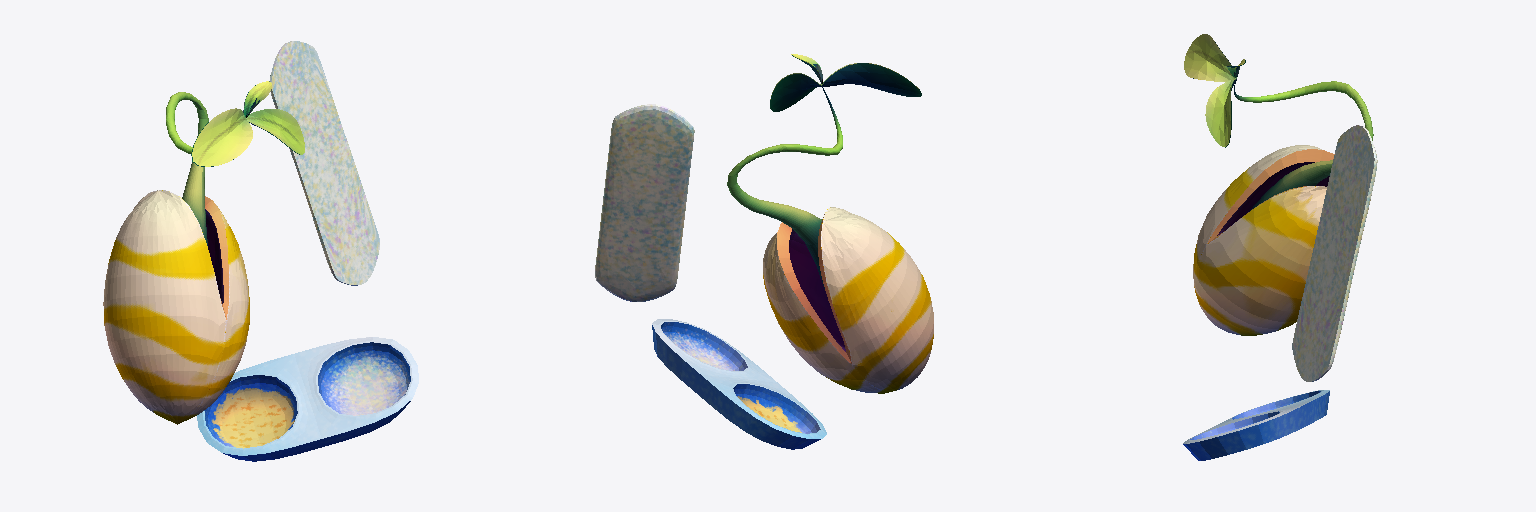
The picture shows the model from 3 angles: view 1: azimuth 30°, elevation 25°; view 2: azimuth 150°, elevation 25°; view 3: azimuth 270°, elevation 25°; orthographic projection.
Visible parts, largest first — view 1: SeedPod_Sphere; view 2: SeedPod_Sphere; view 3: SeedPod_Sphere.
Part boxes in pixels (x1,y1,x2,y2): SeedPod_Sphere: (103, 41, 418, 461); SeedPod_Sphere: (595, 54, 933, 449); SeedPod_Sphere: (1183, 34, 1377, 460).
Bounding box in the file's own units: 2.1 × 2.56 × 1.2.
1 materials, 1 textured.